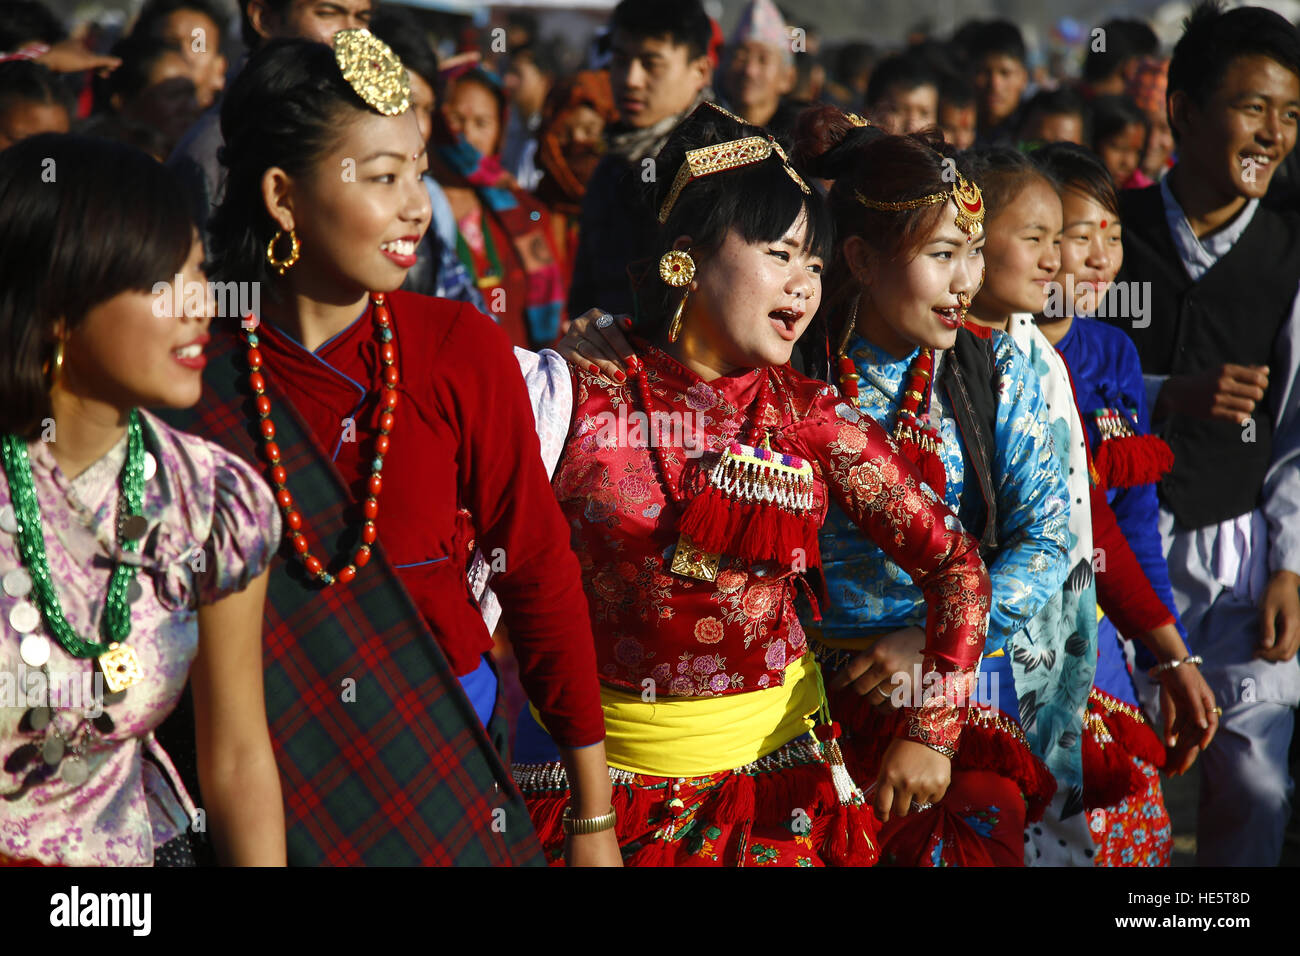human: (474, 85, 999, 873), (196, 33, 634, 869), (1, 134, 312, 865), (811, 112, 1079, 874), (1102, 9, 1300, 863)
